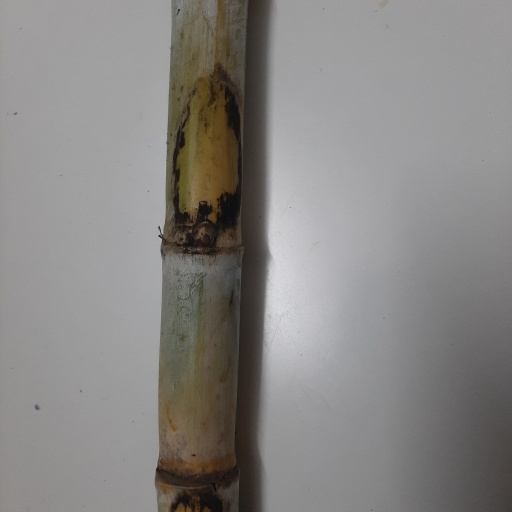Bud: (191, 221, 216, 249)
